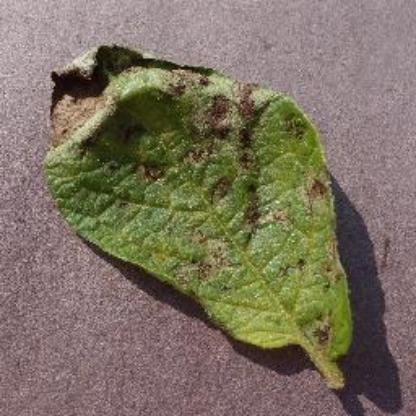Late-Blight: (34, 38, 368, 386)
